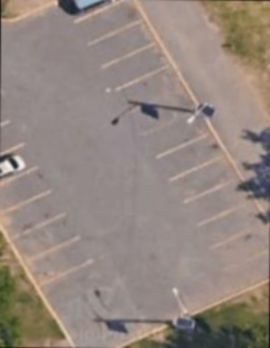parkingspot: (50, 0, 270, 299), (0, 92, 100, 291)
